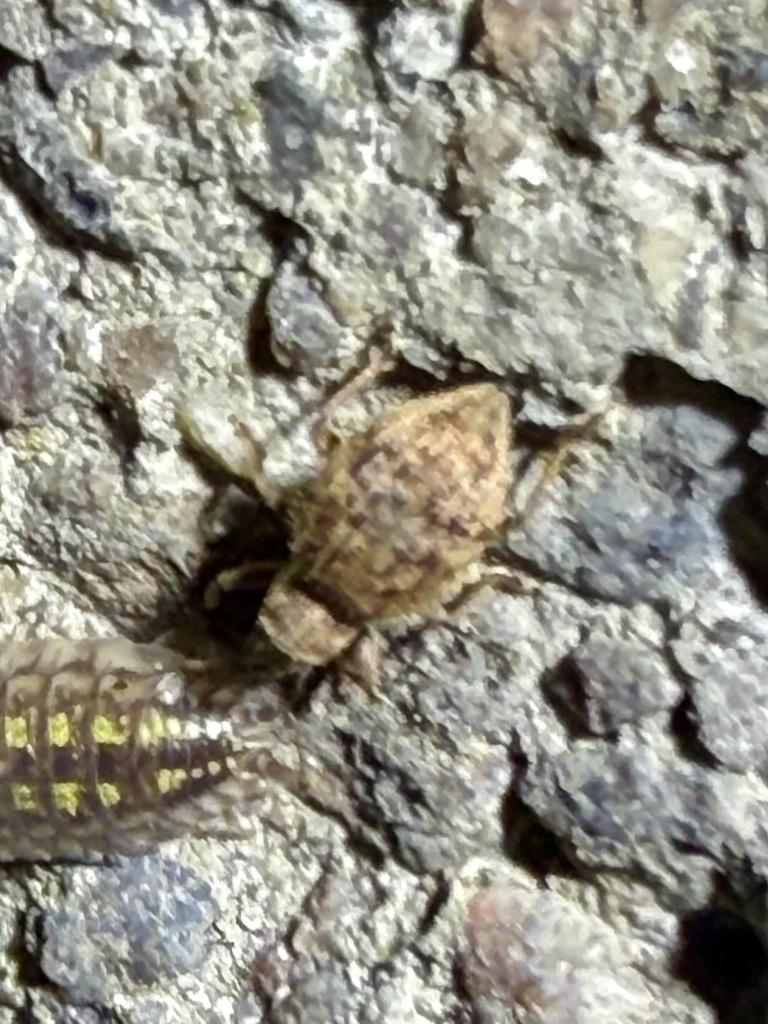weevils: (126, 284, 691, 763)
